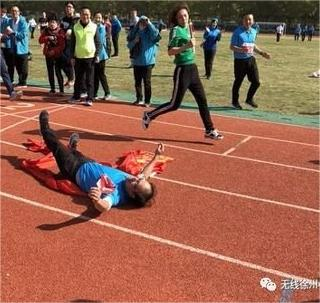down: (21, 104, 174, 216)
up: (148, 6, 218, 142), (229, 10, 272, 115), (70, 5, 103, 106), (125, 15, 160, 105), (36, 12, 67, 98), (5, 6, 34, 93), (198, 14, 224, 81)
